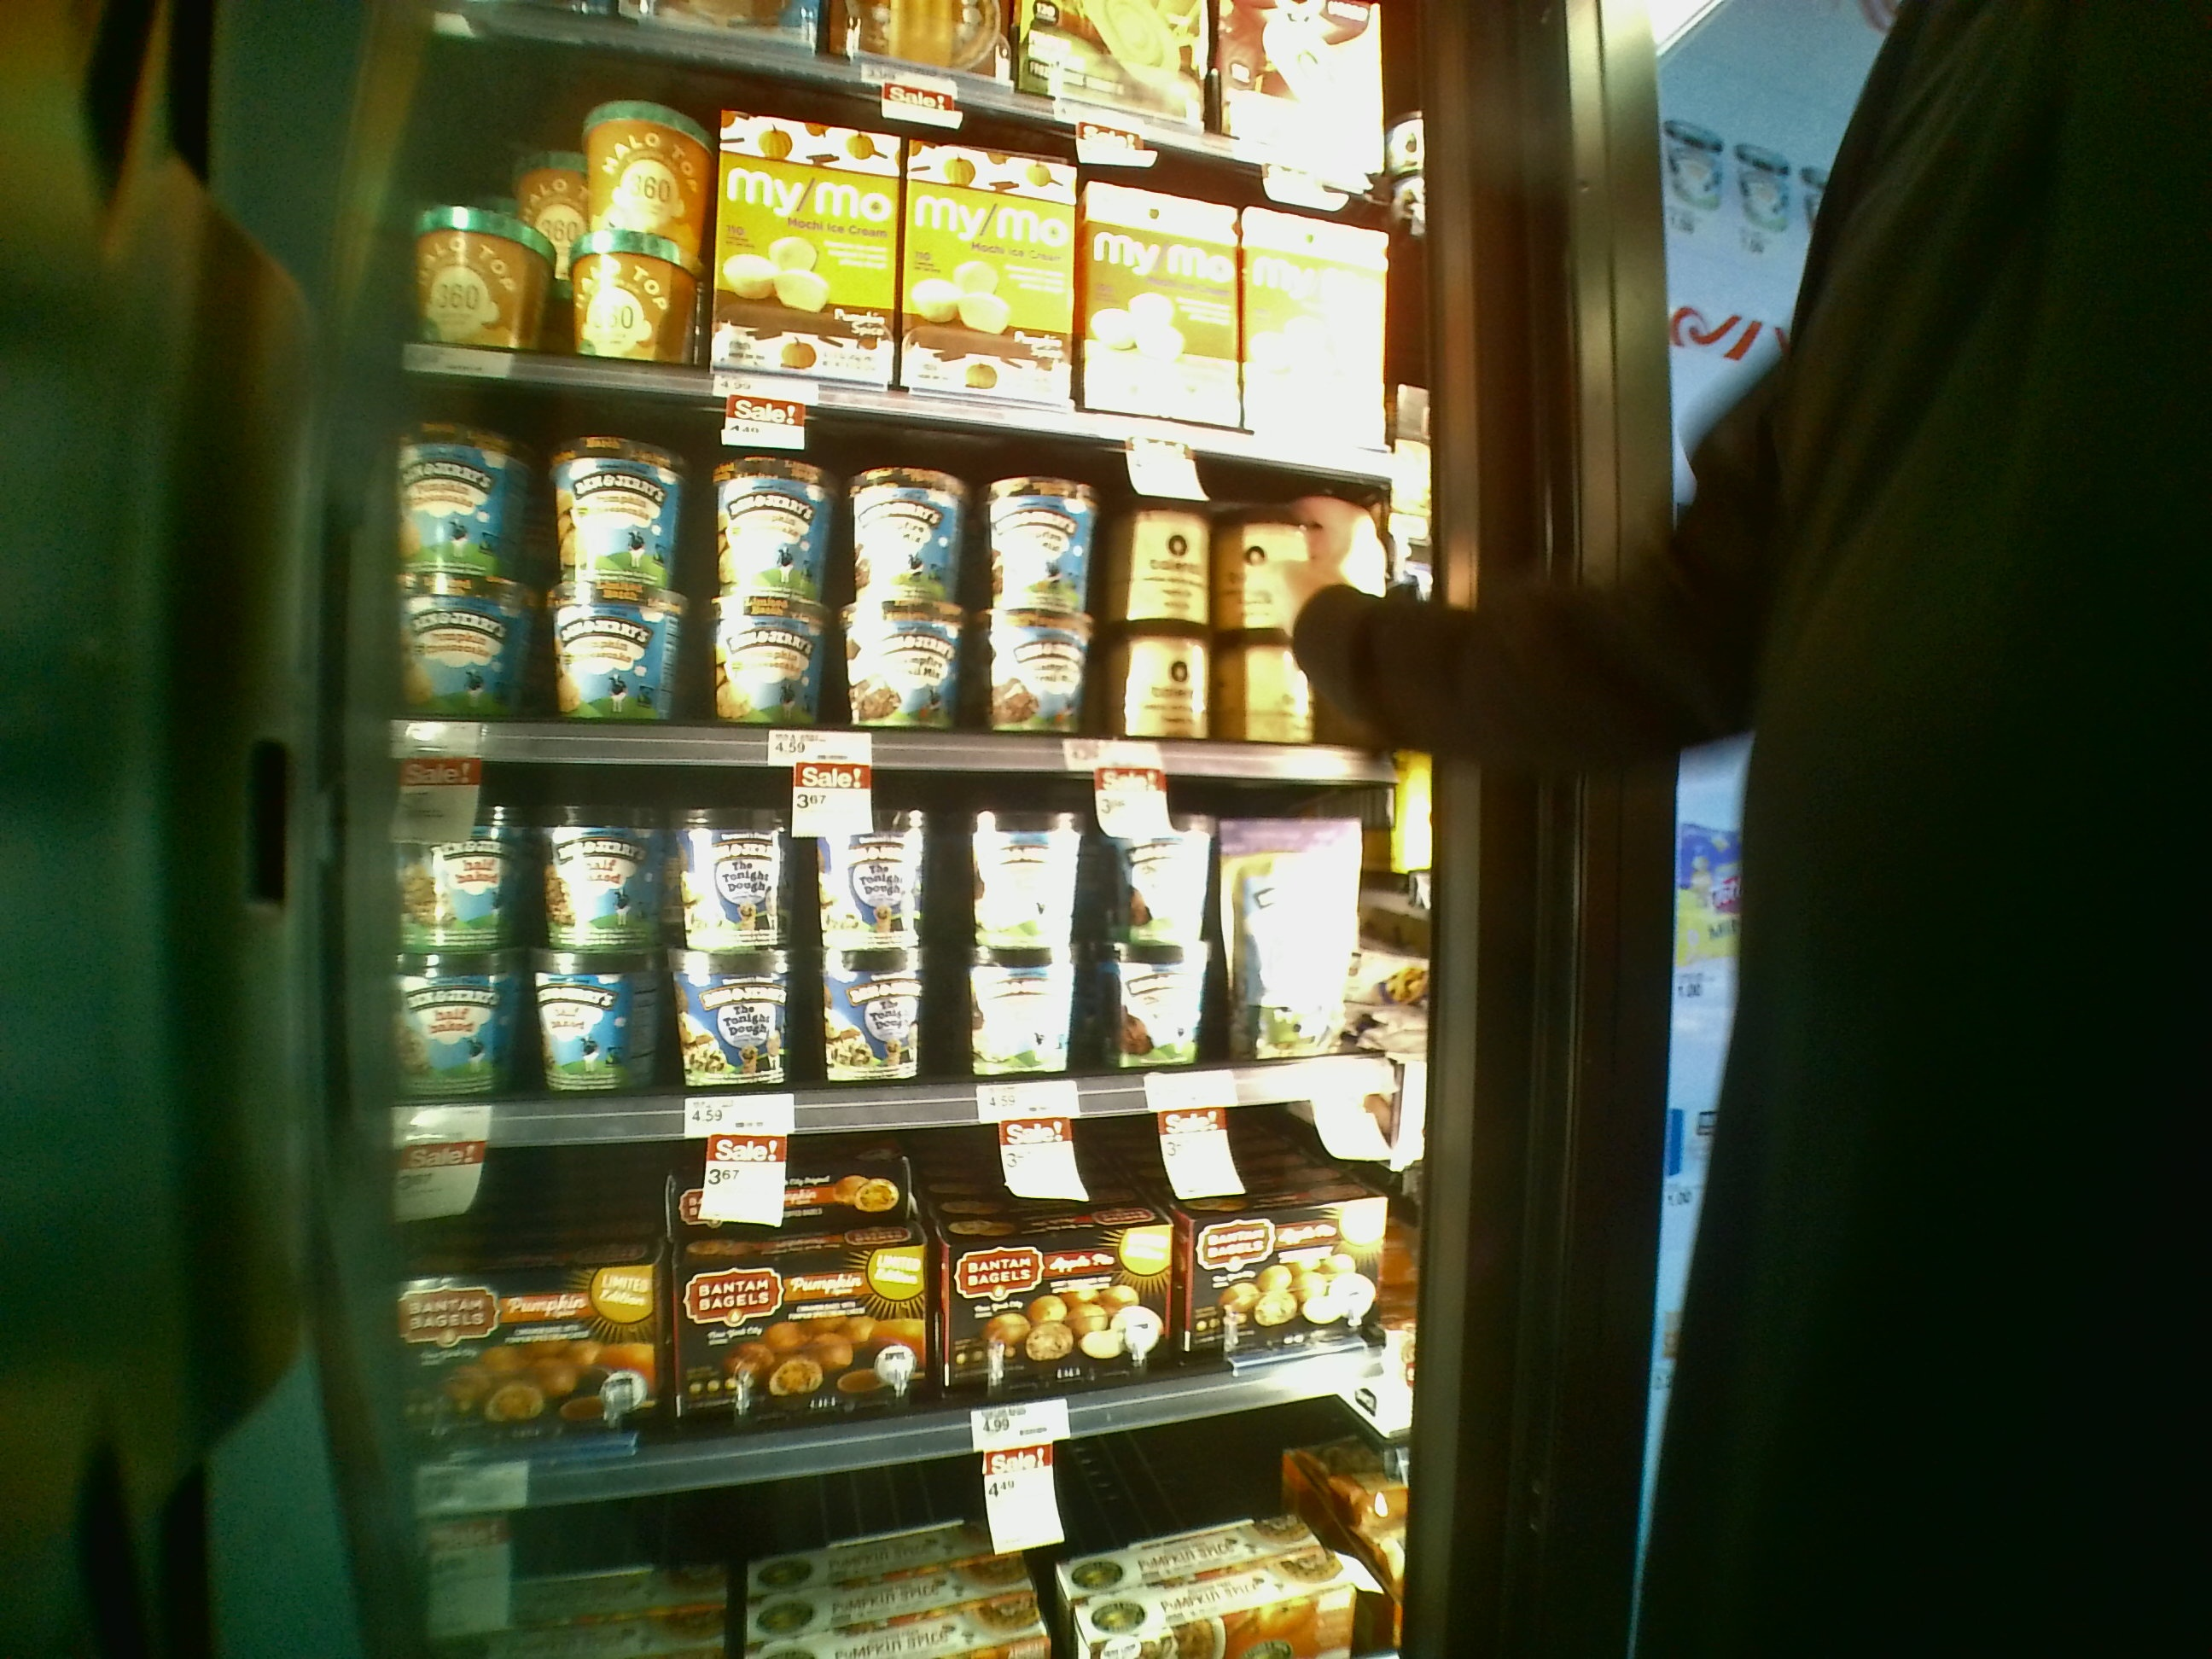shelf: (359, 1107, 1416, 1481), (364, 755, 1426, 1101)
